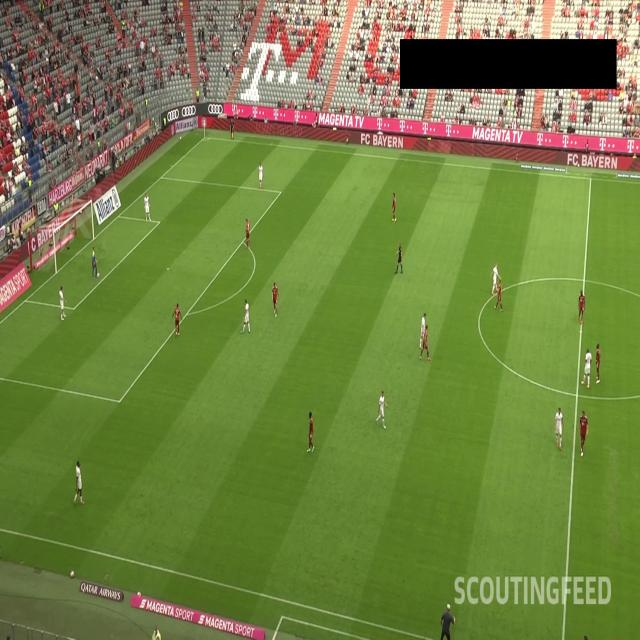ball: (96, 271, 100, 281)
player: (72, 457, 86, 506), (577, 408, 590, 457), (304, 407, 316, 455), (552, 405, 564, 453), (375, 388, 389, 429), (418, 322, 432, 362), (580, 346, 593, 387), (170, 300, 184, 338), (269, 280, 281, 321), (240, 296, 252, 336), (488, 261, 502, 295), (418, 309, 429, 349), (58, 281, 68, 322), (576, 288, 587, 324), (594, 339, 602, 386), (493, 277, 504, 311), (142, 192, 152, 224), (390, 190, 399, 224), (90, 246, 98, 280), (257, 160, 265, 191), (244, 216, 251, 250)
referee: (393, 240, 404, 274), (228, 115, 236, 142)
